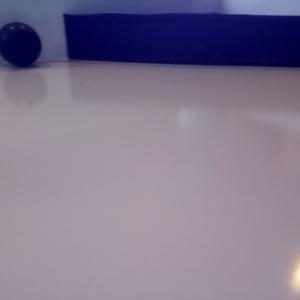zone: (63, 13, 300, 67)
